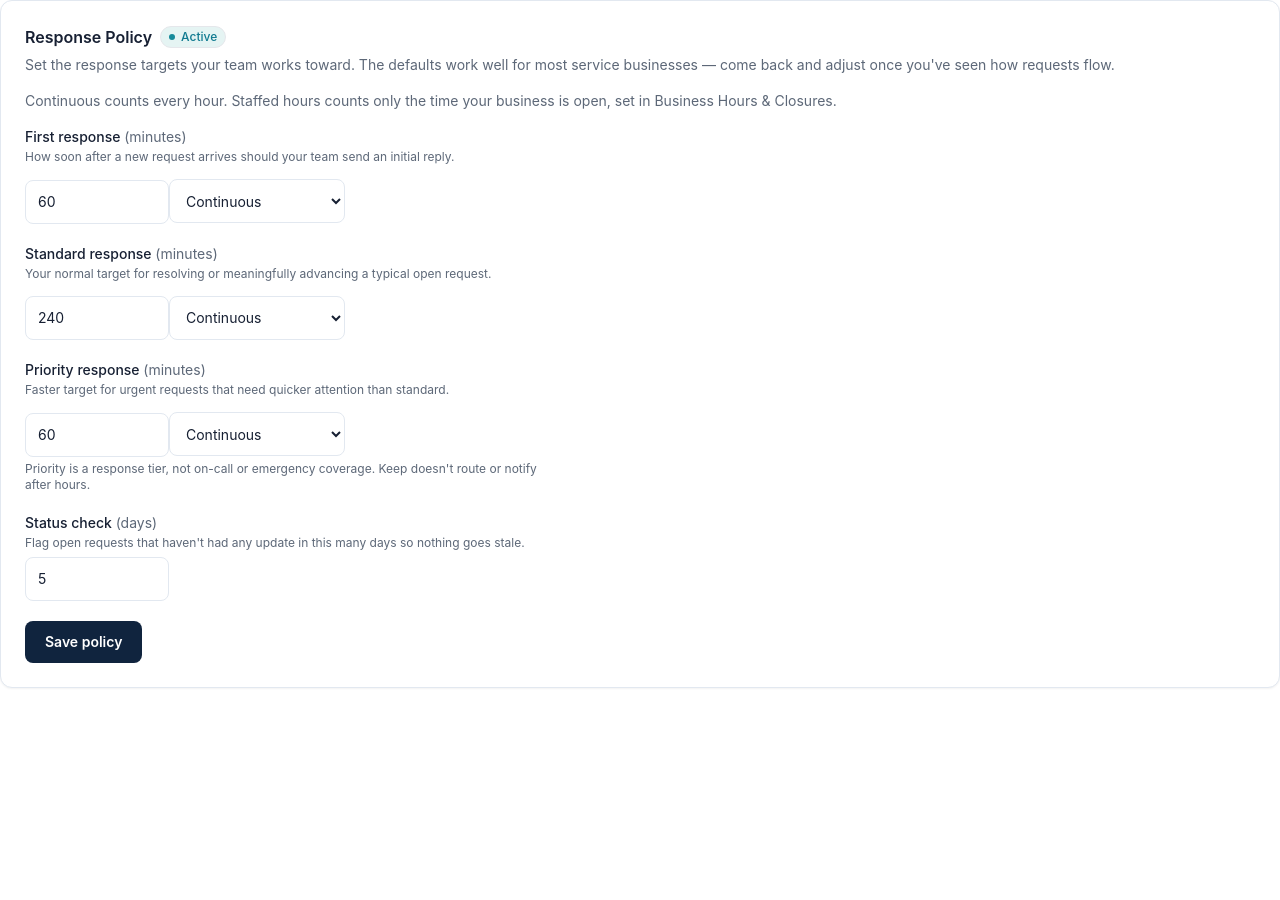
Scenario: PolicySection timing bases (GAP-100 6c) › sends the full snapshot with all three bases and the version
Expected: the button "Save policy" is shown, [25,620,142,662]
Select "Staffed hours" in the dropdown named "Priority reply timing" at (257, 434), box [169,412,345,456]
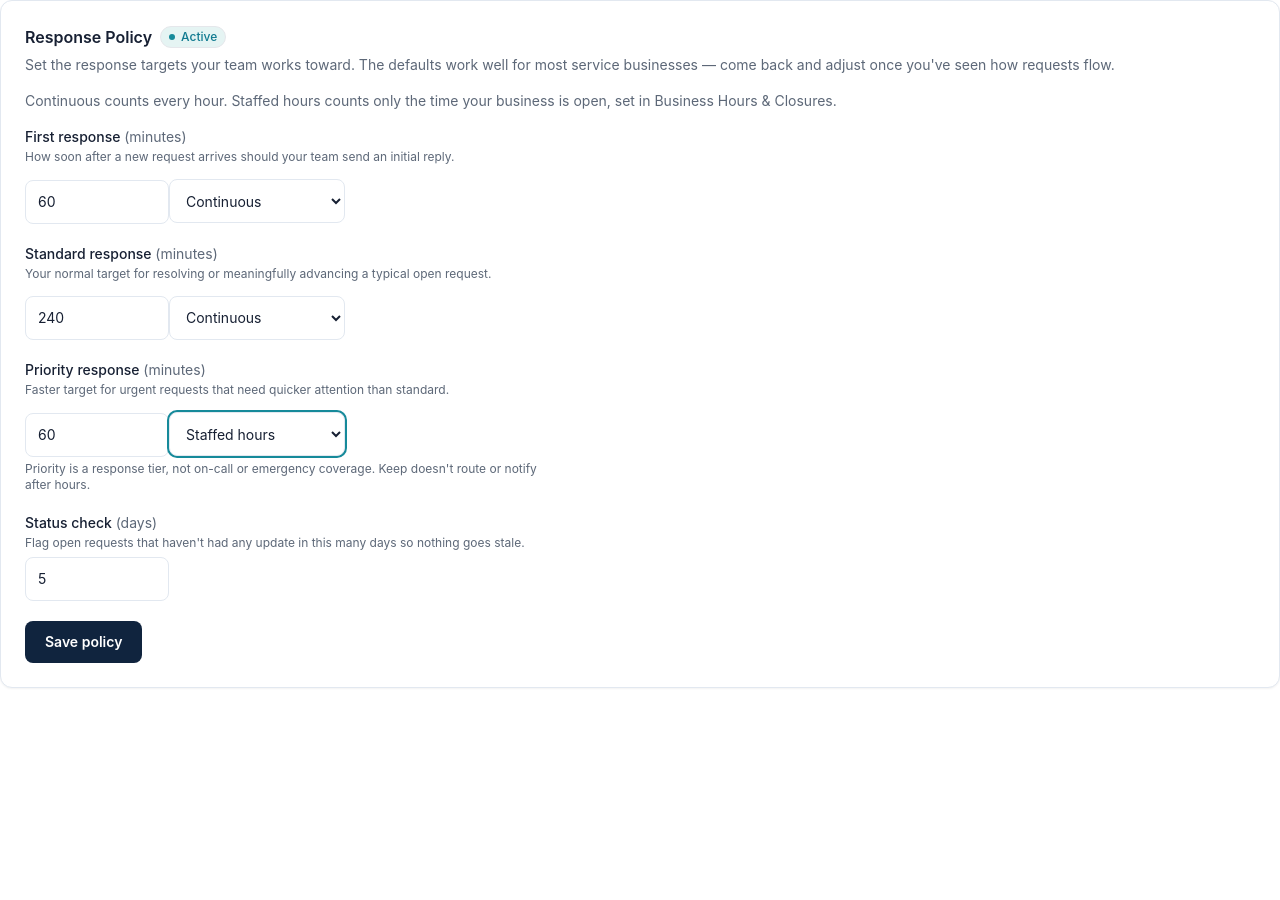
Expected: the dropdown named "First response timing" shows "Continuous", [169,179,345,223]
Expected: the dropdown named "Standard reply timing" shows "Continuous", [169,296,345,340]
Click the button "Save policy" at (84, 642), box [25,620,142,662]
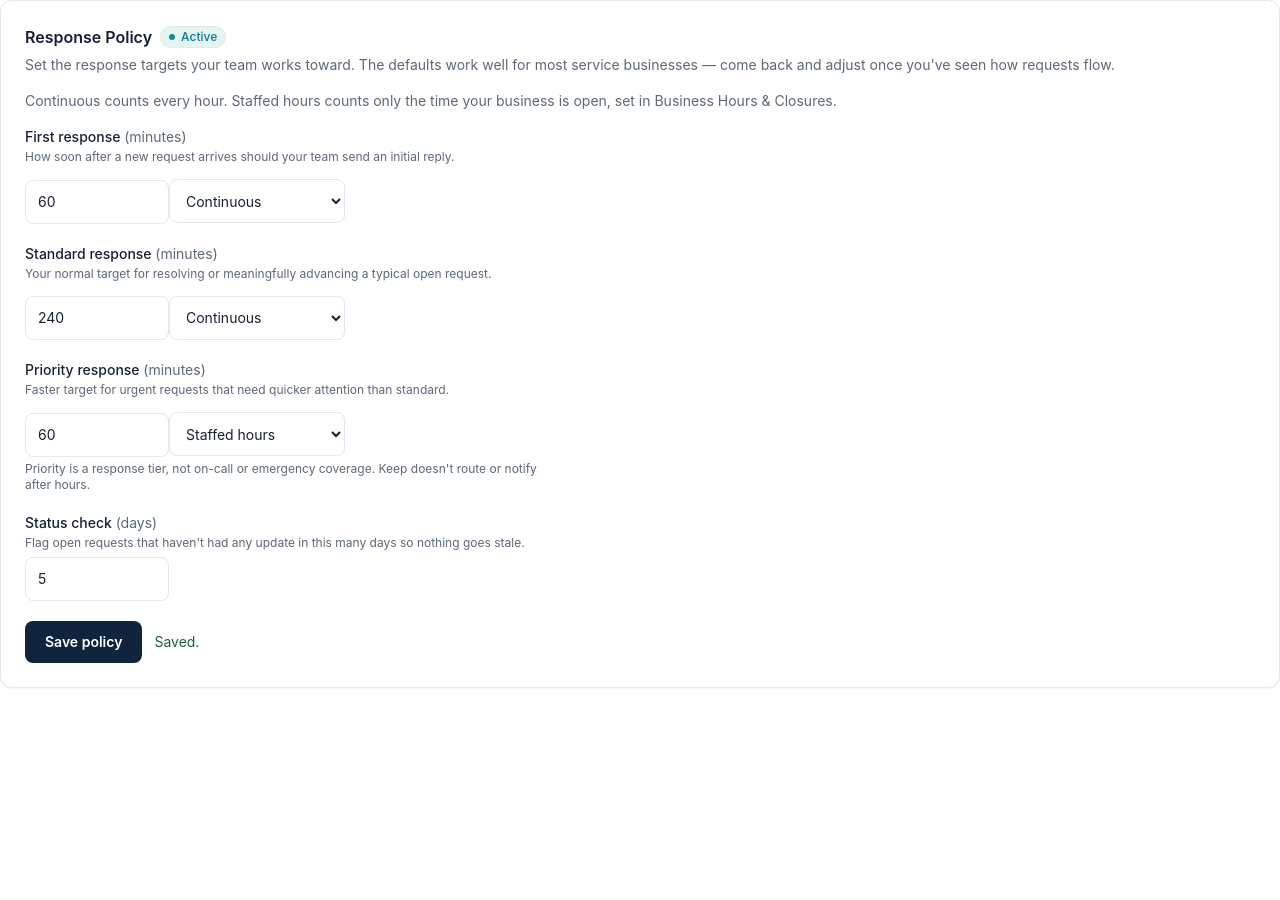
Expected: the text "Saved." is shown, [154,632,199,652]
